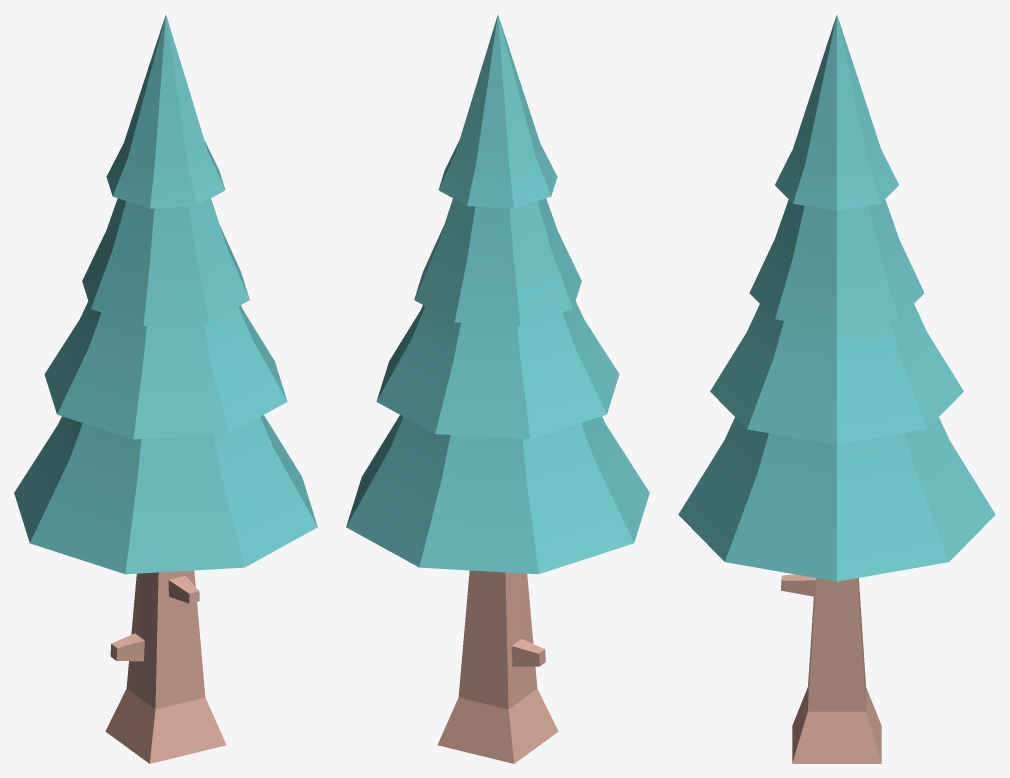
File: PineTree.fbx
3 views of the same model, side by side, from view 1: azimuth 30°, elevation 25°; view 2: azimuth 150°, elevation 25°; view 3: azimuth 270°, elevation 25° (orthographic).
Visible parts, largest first — view 1: tree_pineDefaultA; view 2: tree_pineDefaultA; view 3: tree_pineDefaultA.
Part boxes in pixels (<box>): tree_pineDefaultA: <box>14,15,317,763</box>; tree_pineDefaultA: <box>346,15,649,763</box>; tree_pineDefaultA: <box>678,15,995,763</box>.
Bounding box in the file's own units: 28.06 × 71.3 × 28.06.
